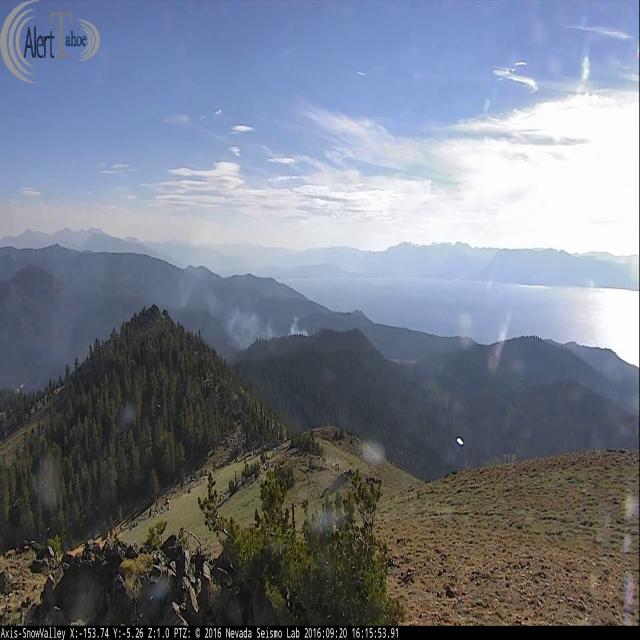smoke: (0, 254, 167, 380), (167, 253, 311, 354)
